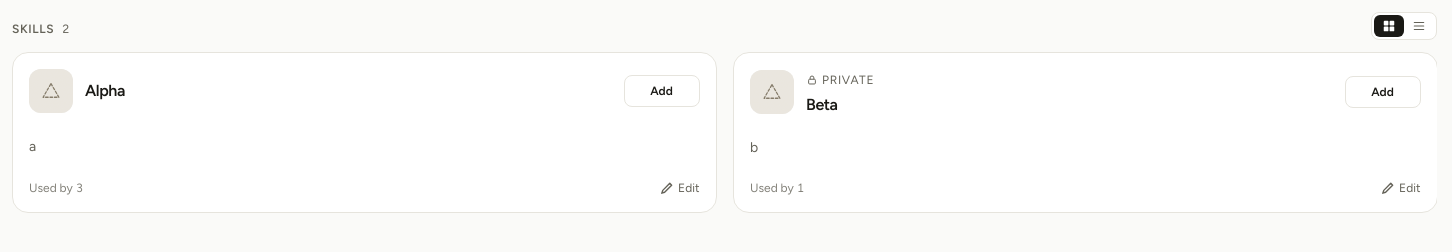
Test: ProfileSkillsManager: bulk actions › no bulk group until something is selected
Click the button named "list" at point(1419, 26), box [1404,15,1434,37]
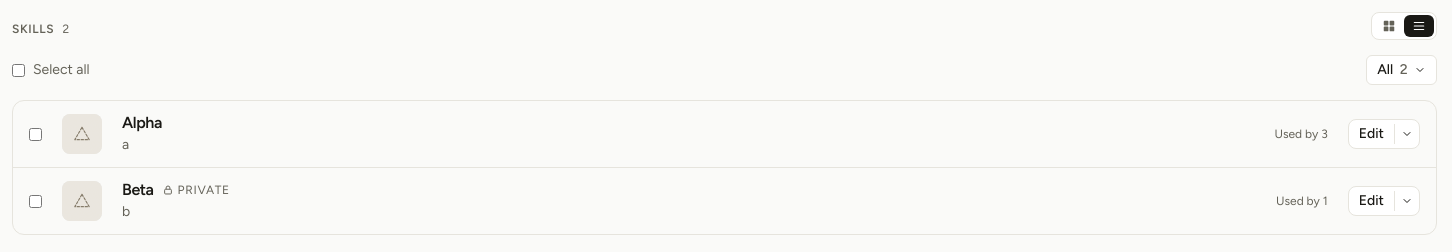
Click the checkbox named "Select Alpha" at point(36, 134), box [29,128,42,141]
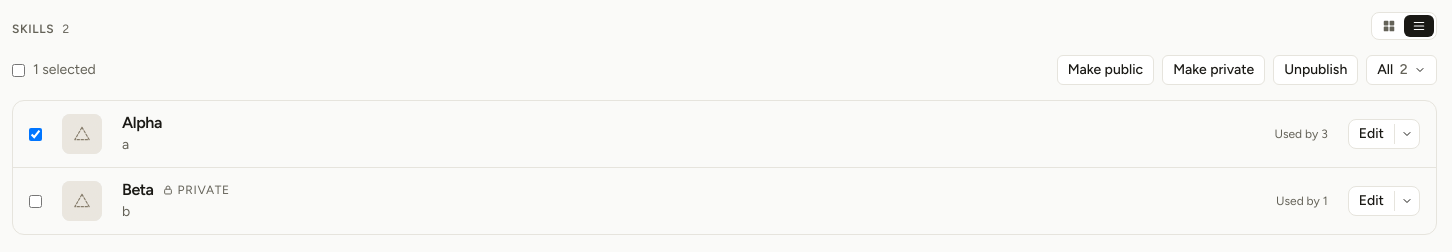
Expected: the element named "Bulk actions" is shown, [1057,55,1358,85]
